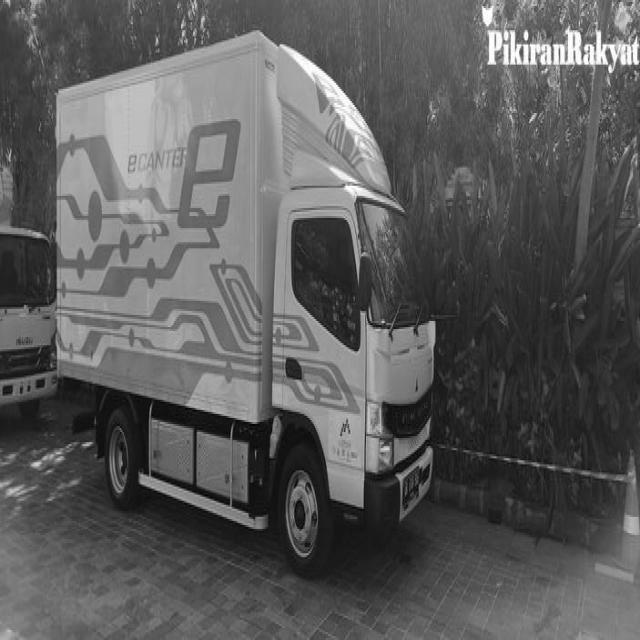truck: (250, 148, 463, 552)
